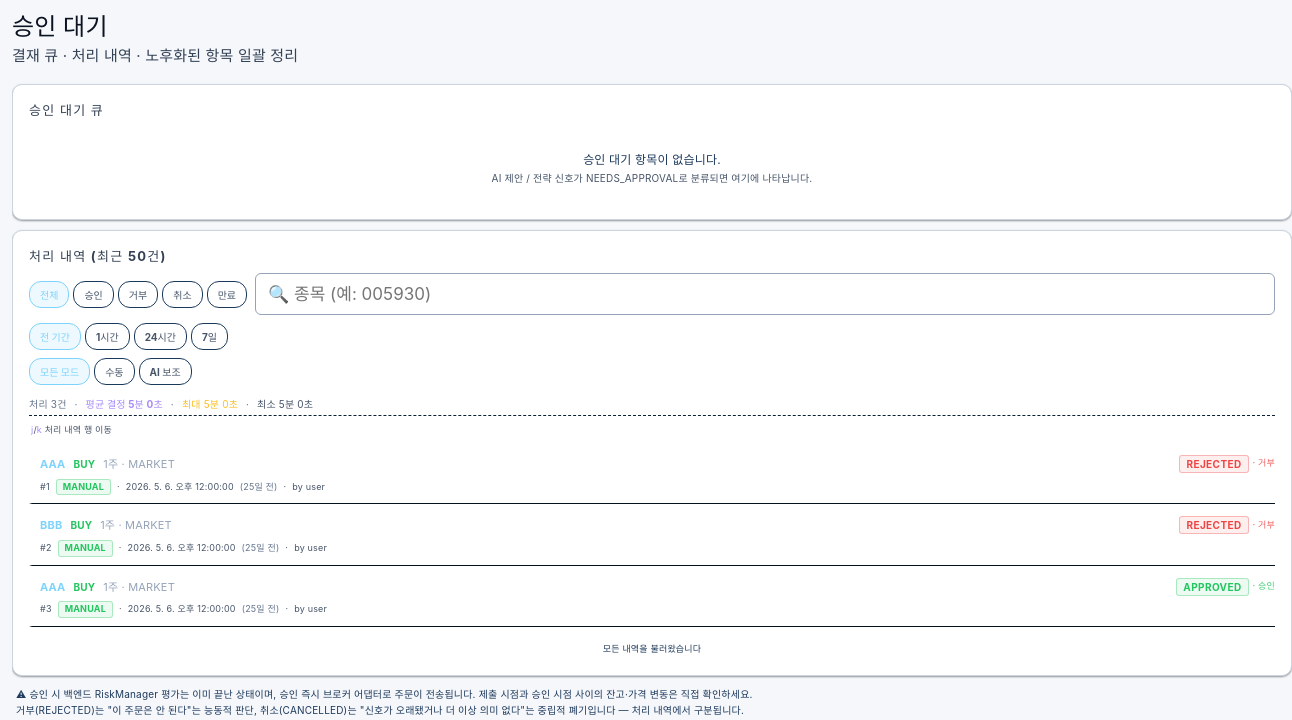
it: <Approvals> 처리 내역 status filter › composes with symbol filter (status × symbol)
Step 1. Click the radio button labelled "거부" → {"x": 138, "y": 294}, box [118,281,158,308]
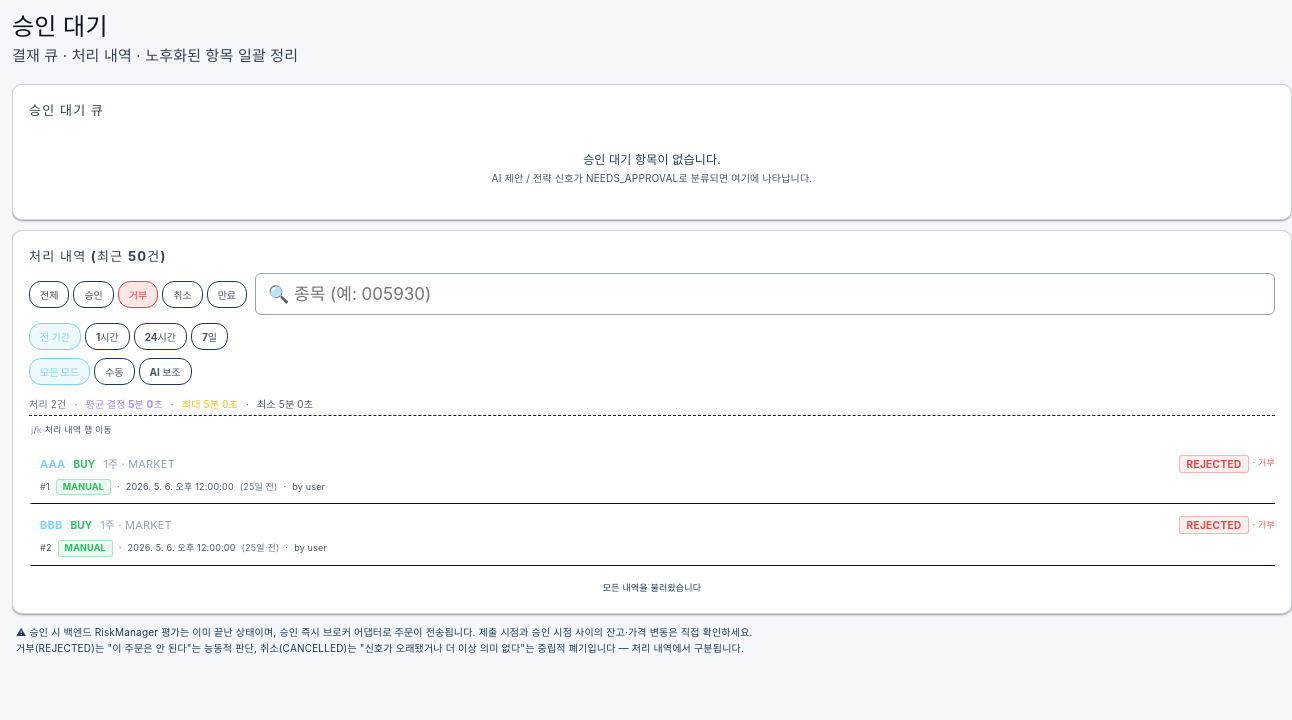
Step 2. Type "AAA" into the field with placeholder "🔍 종목 (예: 005930)" → {"x": 765, "y": 294}, box [255,273,1275,315]
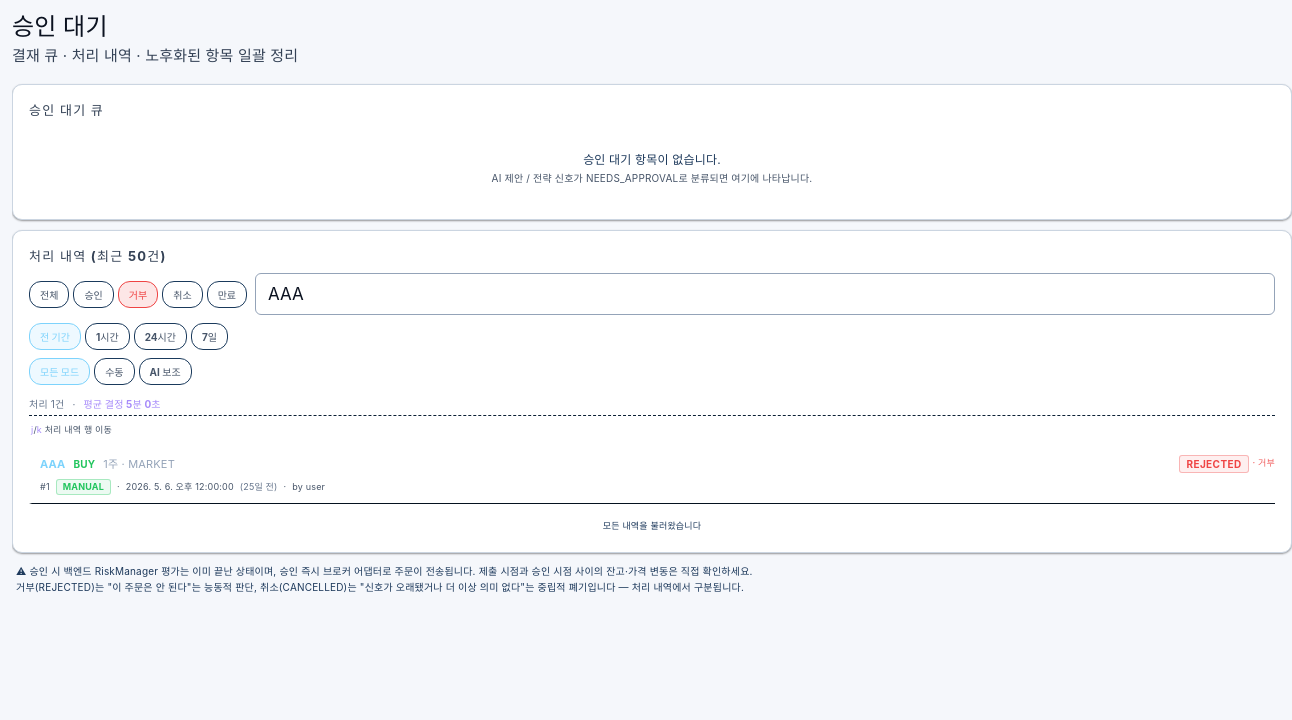
Expected: the text "#1" is shown, [40,481,50,493]
Expected: the text "#2" is gone
